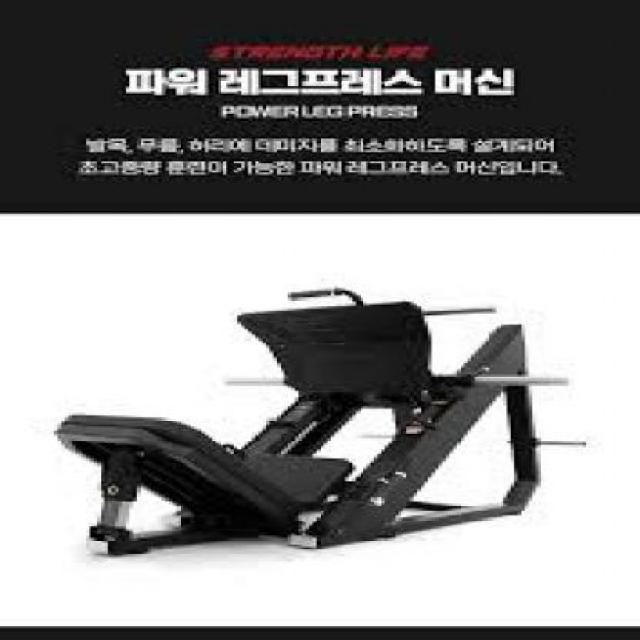leg press: (32, 260, 592, 562)
